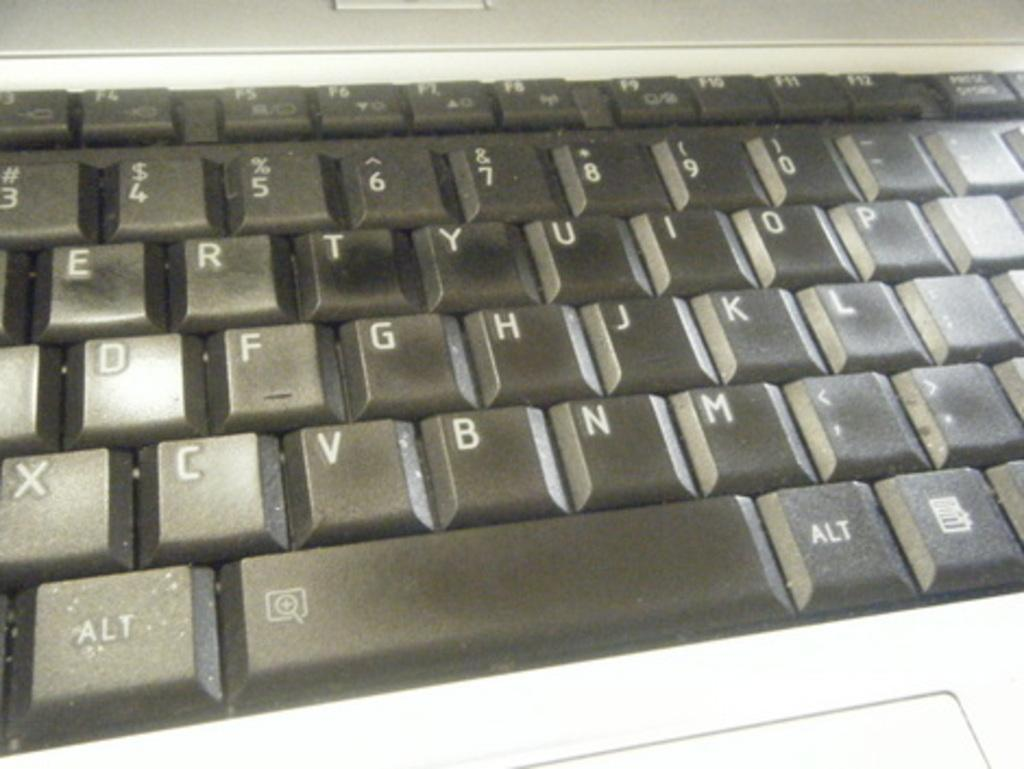Computer-keyboard: (0, 65, 1022, 756)
